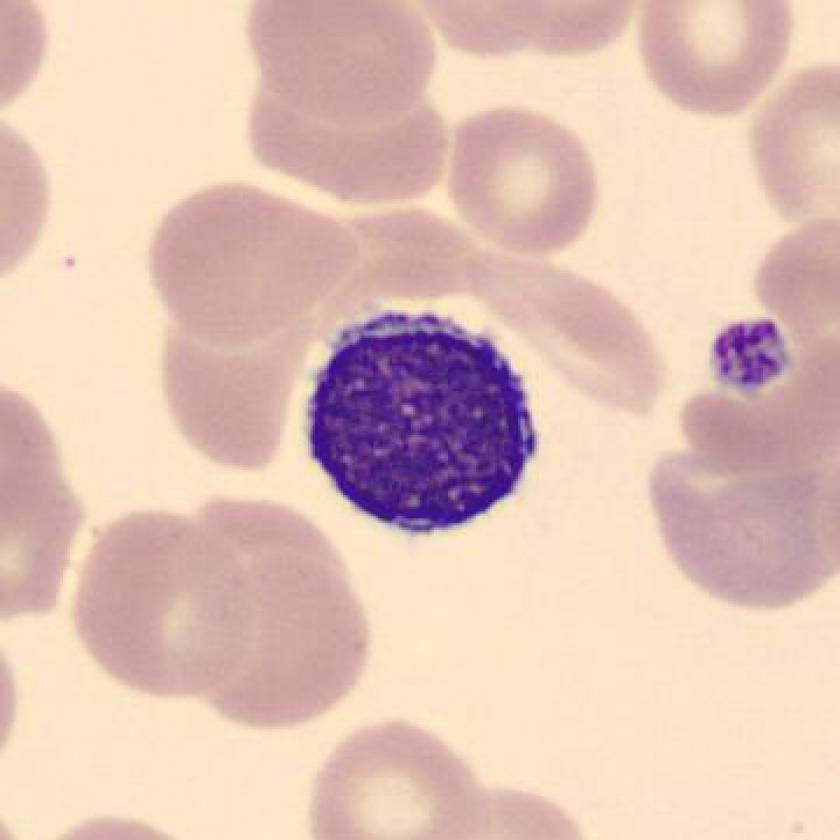lymphocyte: (293, 300, 556, 559)
platelets: (702, 313, 799, 404)
